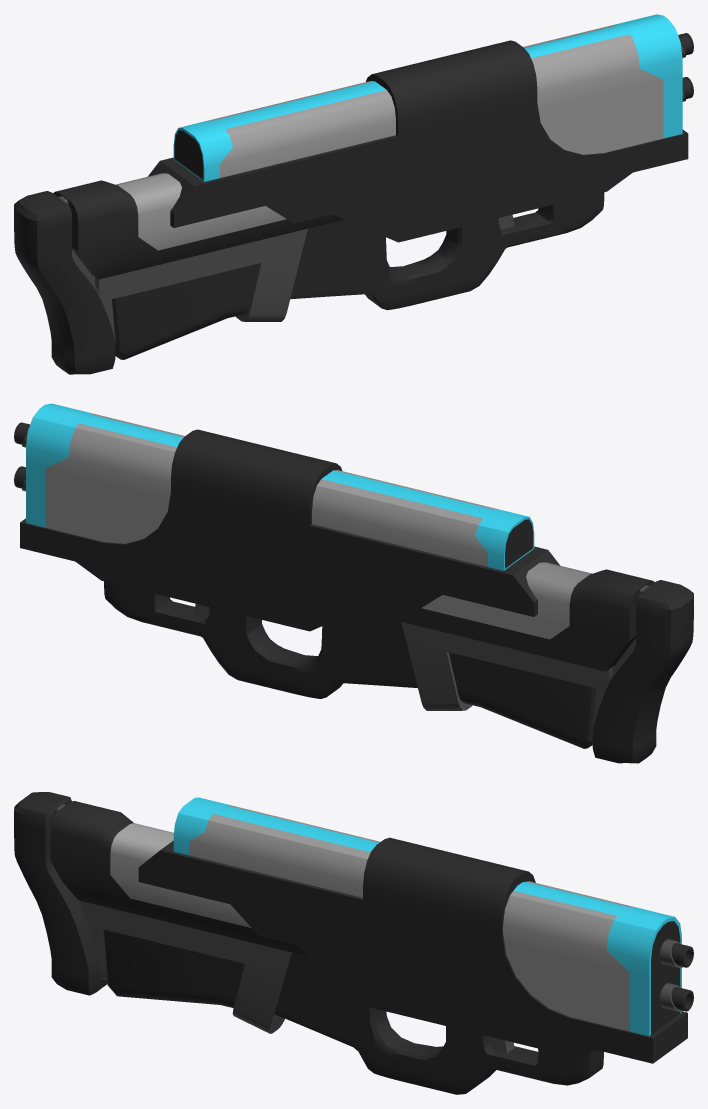
File: plasma.glb
3 views of the same model, one above another, from view 1: azimuth 30°, elevation 25°; view 2: azimuth 150°, elevation 25°; view 3: azimuth 330°, elevation 25° (orthographic).
Visible parts, largest first — view 1: AR_2_1, AR_2_4, AR_2_3, AR_2_2; view 2: AR_2_1, AR_2_4, AR_2_3, AR_2_2; view 3: AR_2_1, AR_2_4, AR_2_3, AR_2_2.
Boxes of the visible parts, bbox=[...] form: AR_2_1: bbox=[14, 33, 693, 374]; AR_2_4: bbox=[116, 24, 663, 250]; AR_2_3: bbox=[173, 14, 682, 181]; AR_2_2: bbox=[58, 45, 685, 342]; AR_2_1: bbox=[14, 422, 693, 763]; AR_2_4: bbox=[45, 414, 591, 639]; AR_2_3: bbox=[26, 403, 534, 570]; AR_2_2: bbox=[22, 433, 649, 731]; AR_2_1: bbox=[14, 792, 693, 1094]; AR_2_4: bbox=[110, 805, 632, 1031]; AR_2_3: bbox=[173, 797, 681, 1036]; AR_2_2: bbox=[57, 804, 682, 1053].
Size of the model in its own units: 1.49 by 0.4864 by 0.1356.
